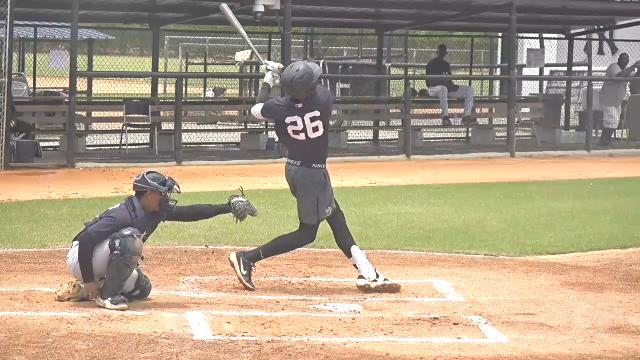baseball bat: (220, 2, 264, 62)
